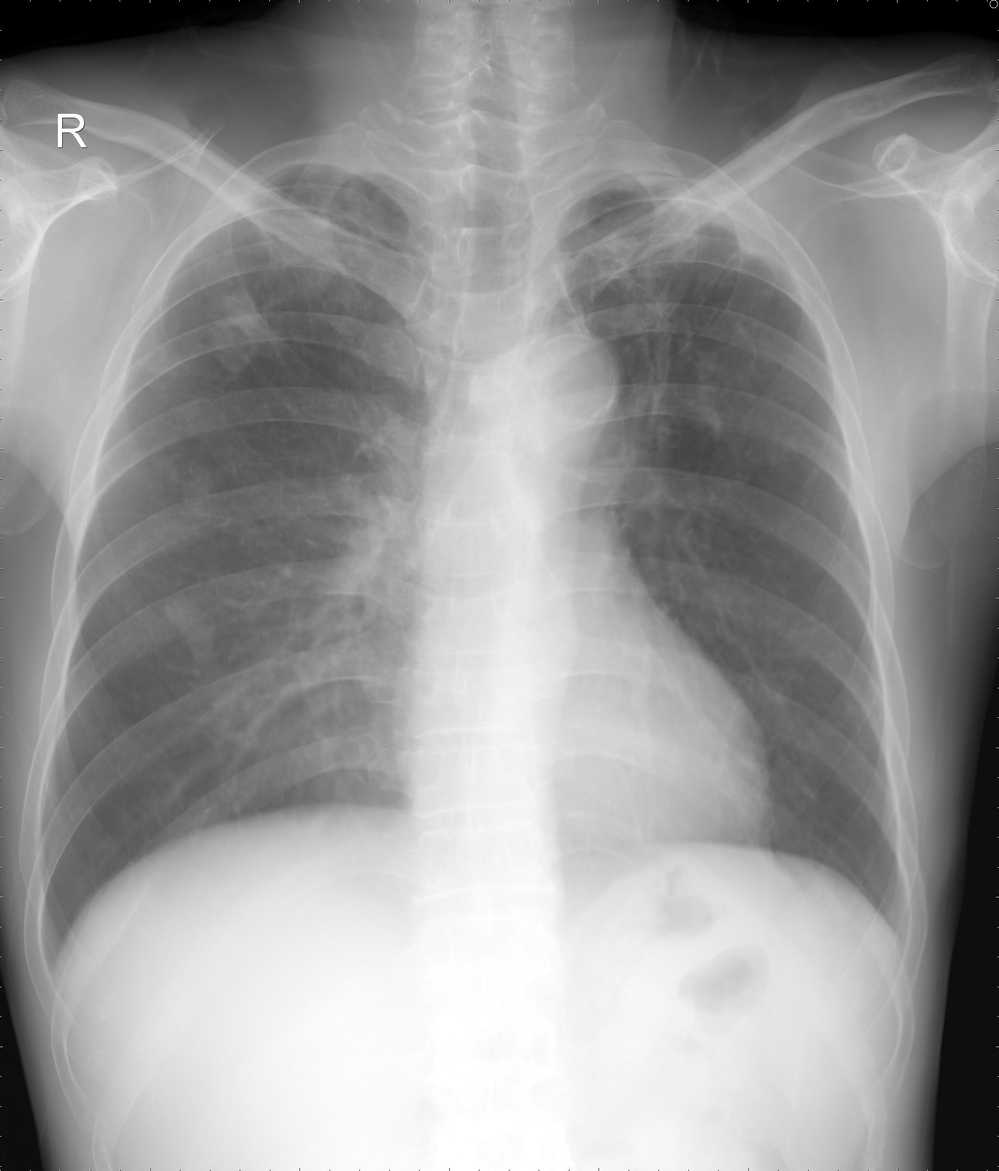Pleural thickening: (632, 167, 787, 266)
Pulmonary fibrosis: (584, 232, 760, 436), (228, 212, 371, 348)
